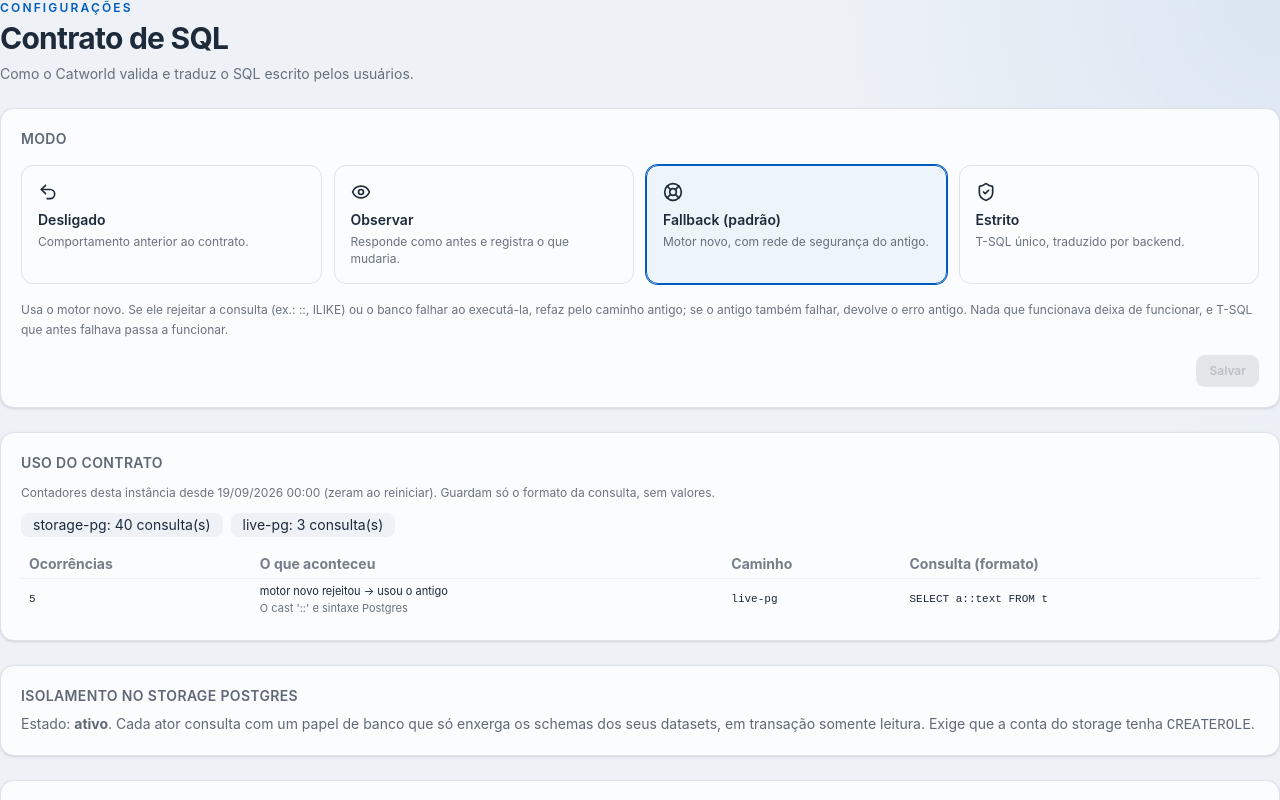
Test: tela Contrato de SQL › estrito mostra o aviso e salva via PATCH
Click the text "Estrito".
click(997, 220)  # box [976,210,1019,230]
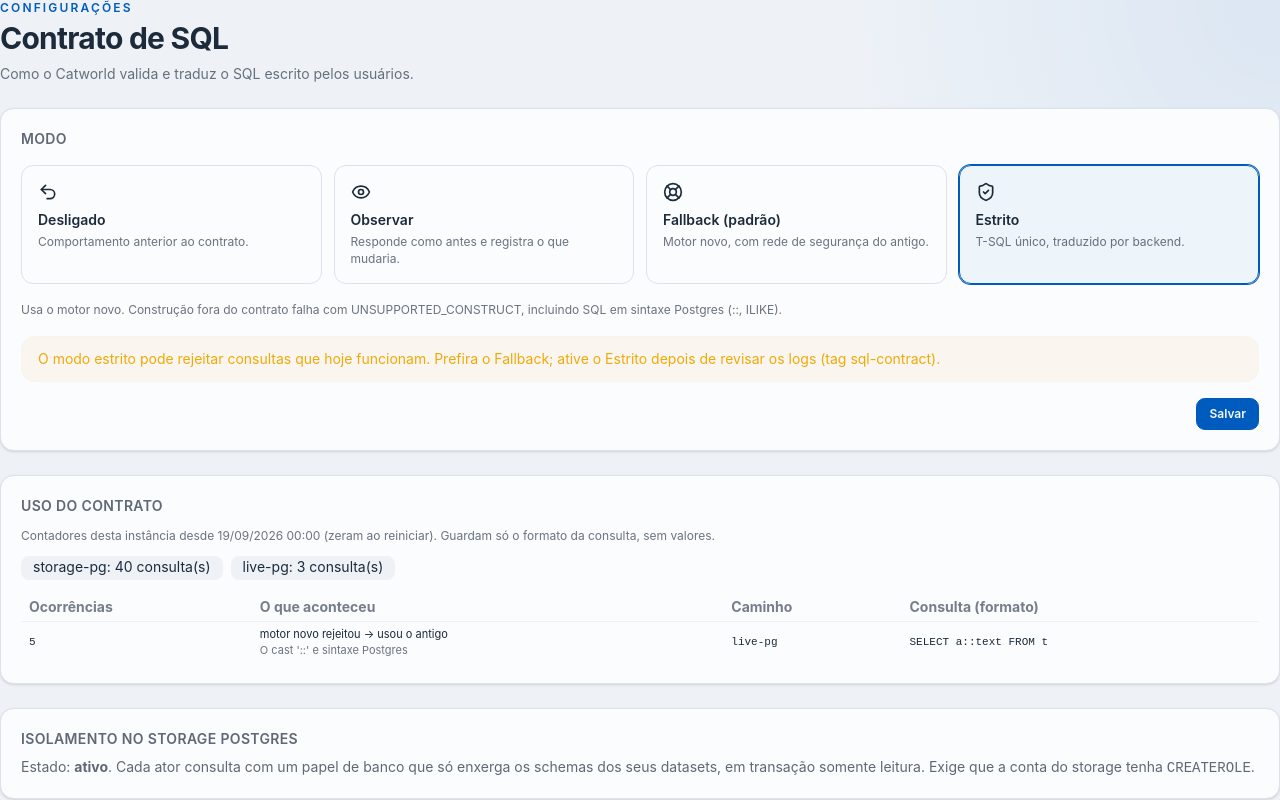
Now the text "pode rejeitar consultas que hoje funcionam" is shown, box [38,350,940,366]
Now the button "Salvar" is enabled
Click the button "Salvar".
click(1228, 414)  # box [1196,398,1259,430]
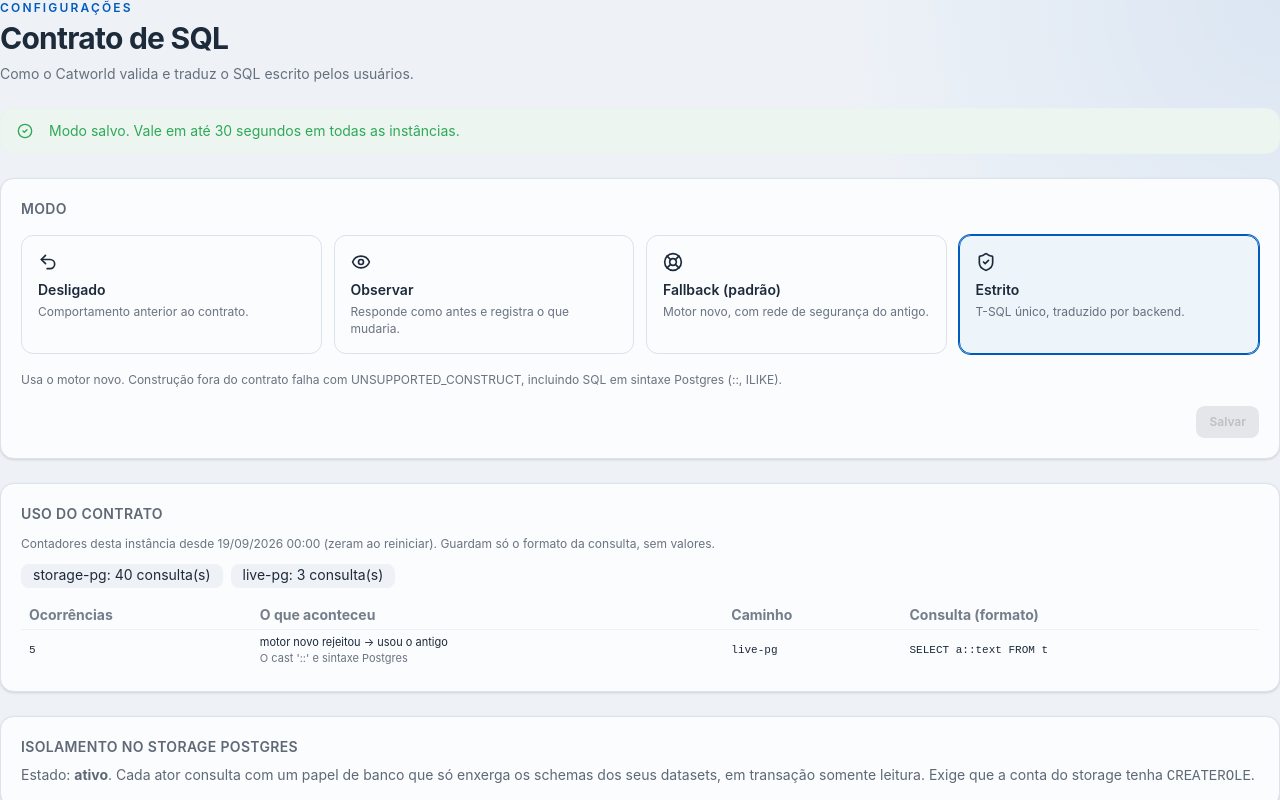
Now the text "Modo salvo. Vale em até 30 segundos em todas as instâncias." is shown, box [0,108,1279,154]
Now the text "pode rejeitar consultas" is gone
Now the button "Salvar" is disabled, box [1196,406,1259,438]
